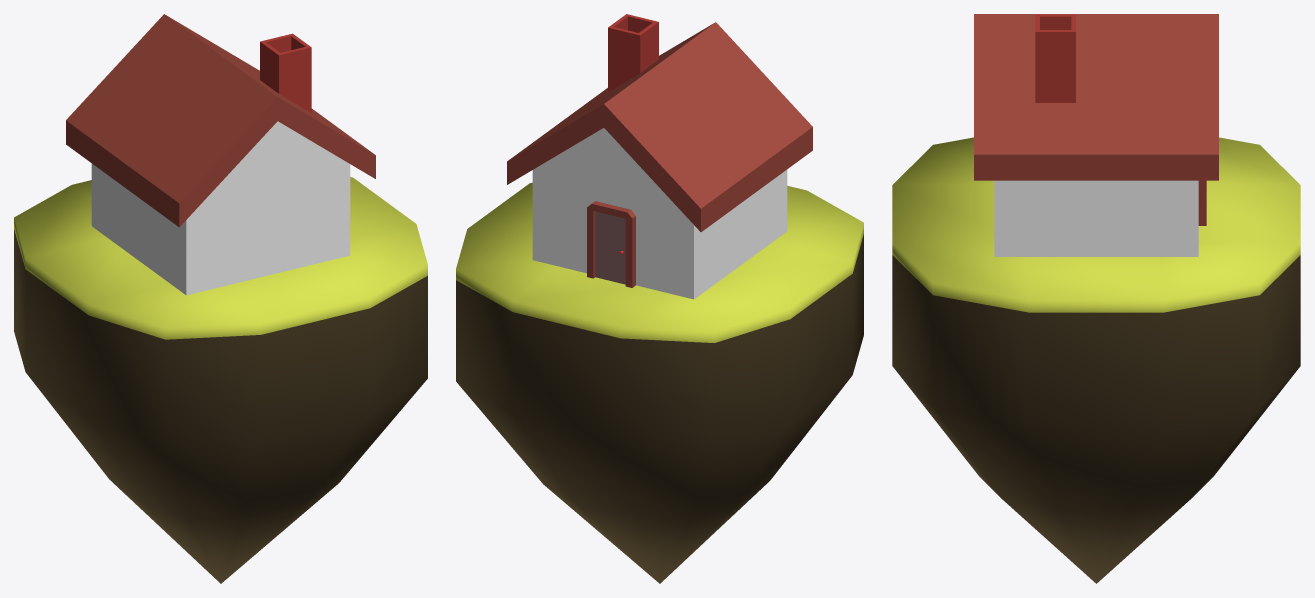
File: FloatingIsland.fbx
3 renders of one model, left to right at view 1: azimuth 30°, elevation 25°; view 2: azimuth 150°, elevation 25°; view 3: azimuth 270°, elevation 25°, orthographic. The views are drawn at different scales.
Visible parts, largest first — view 1: Floating Island; view 2: Floating Island; view 3: Floating Island.
Boxes of the visible parts, <box> form: Floating Island: <box>14,14,427,583</box>; Floating Island: <box>456,14,863,583</box>; Floating Island: <box>892,14,1300,583</box>.
Size of the model in its own units: 1000 by 1580 by 1000.
